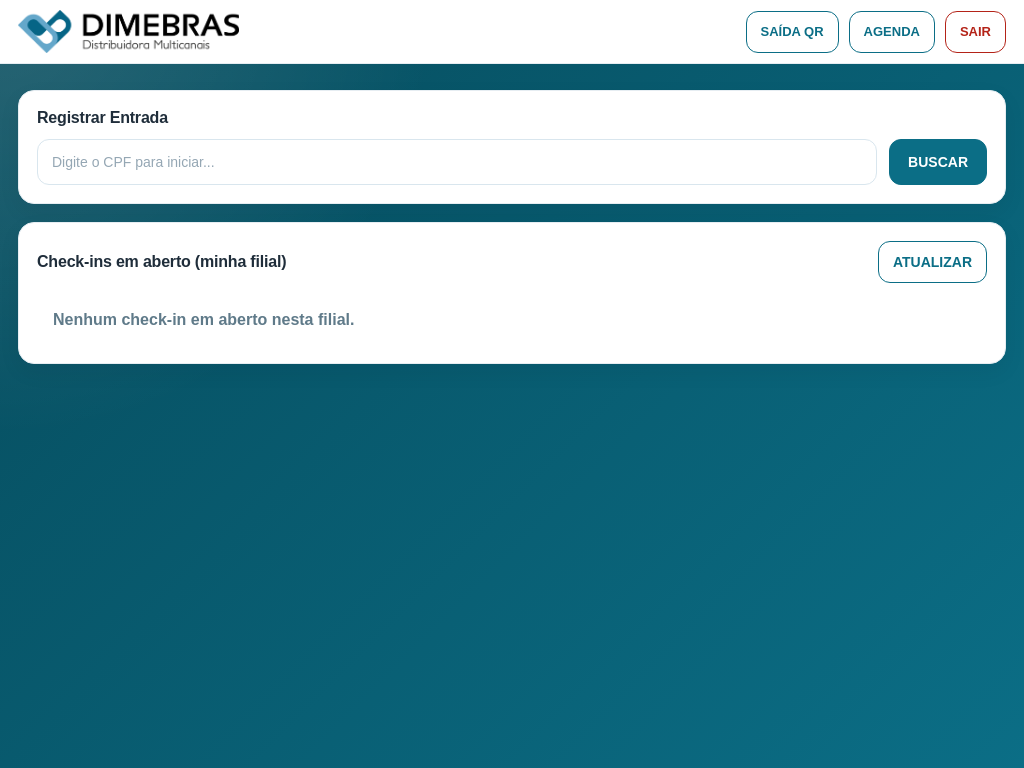
Checkin feedback › valida CPF obrigatório e inválido antes da busca
The width and height of the screenshot is (1024, 768).
Click the button "BUSCAR". click: (938, 162)
box: [889,139,987,185]
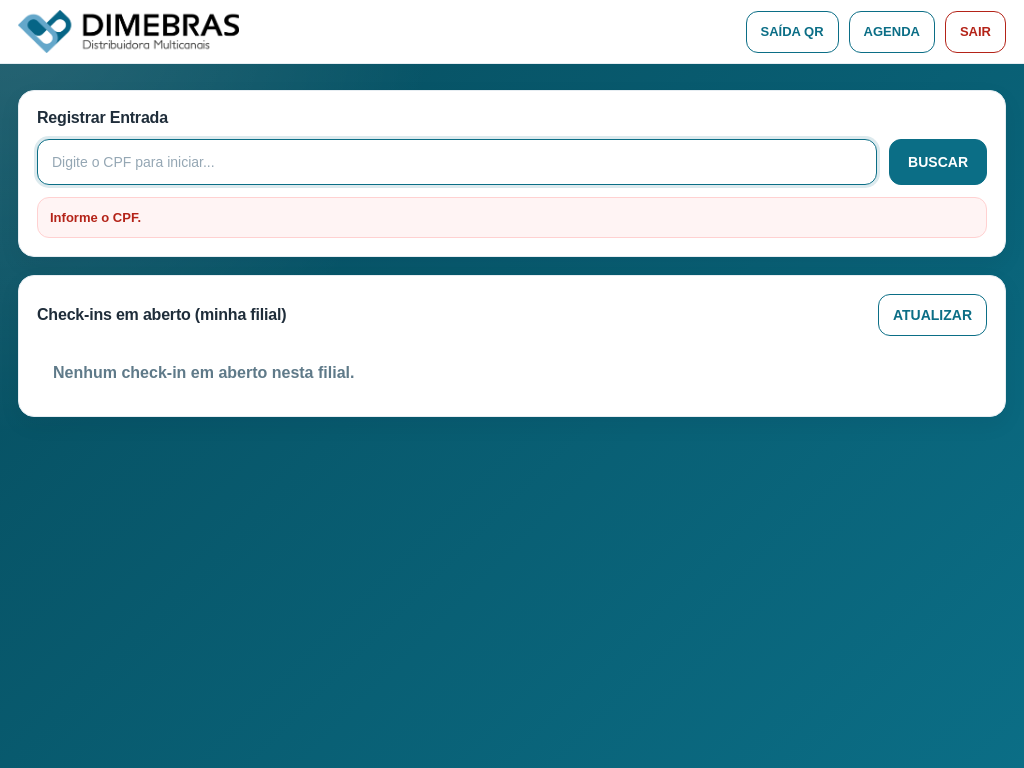
Expected: the message reads "Informe o CPF.", [50,210,141,225]
Type "11111111111" into the field with placeholder "Digite o CPF para iniciar...". click: (457, 162)
box: [37,139,877,185]
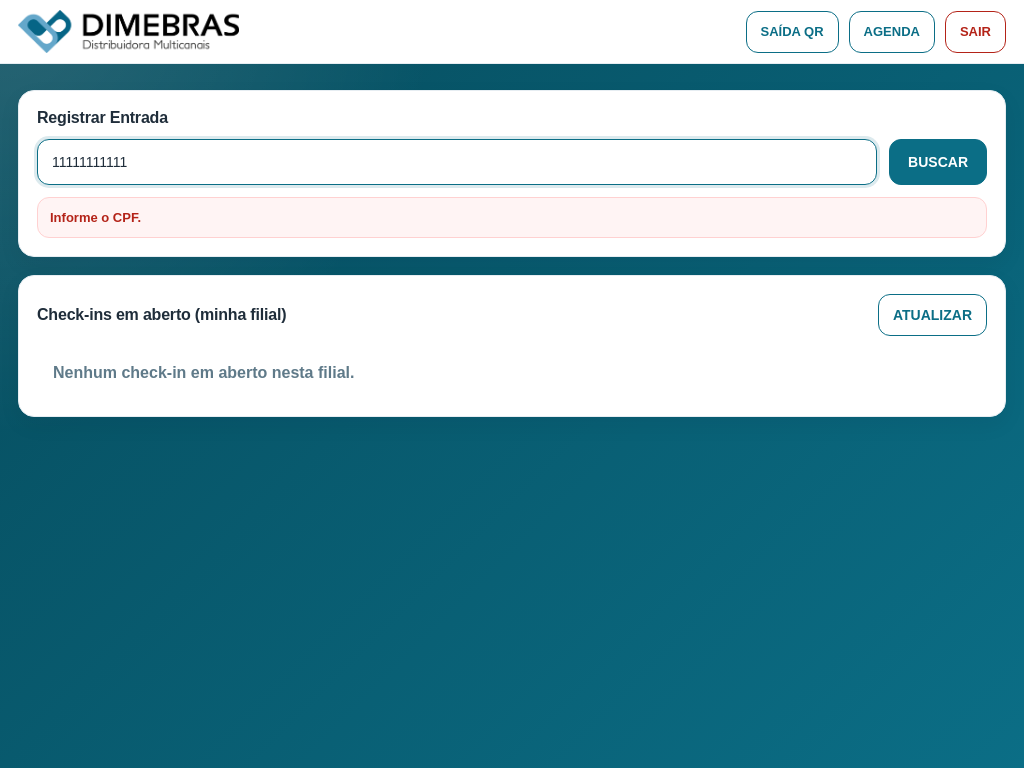
Click the button "BUSCAR". click: (938, 162)
box: [889,139,987,185]
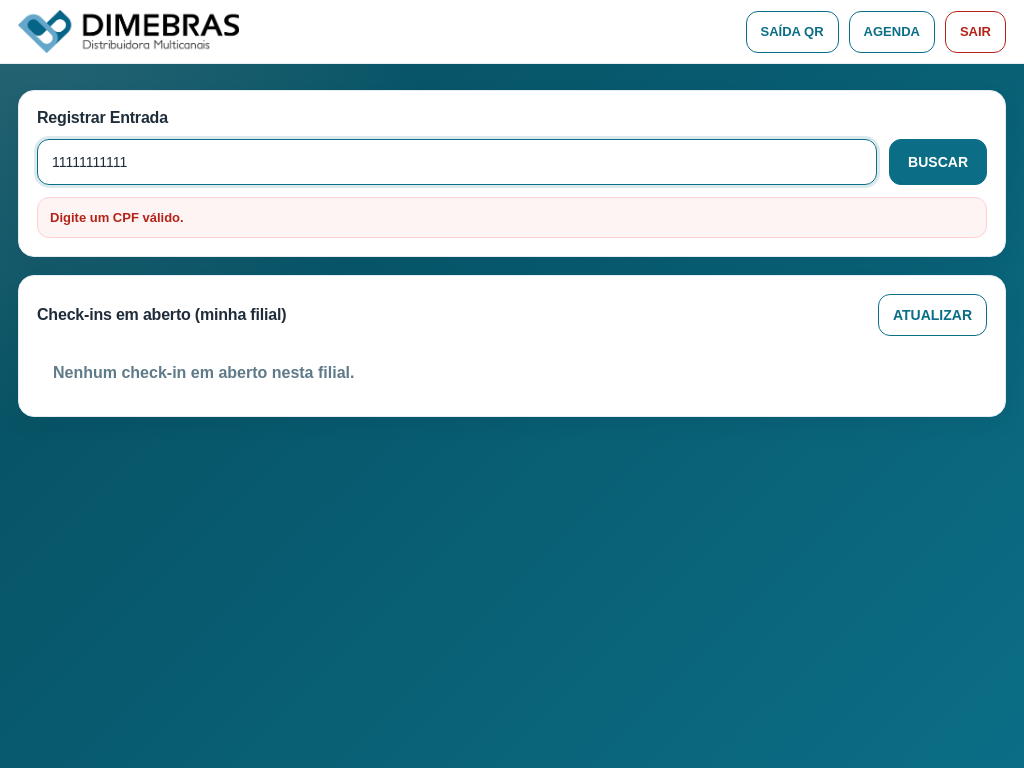
Expected: the message reads "Digite um CPF válido.", [50,210,184,225]
